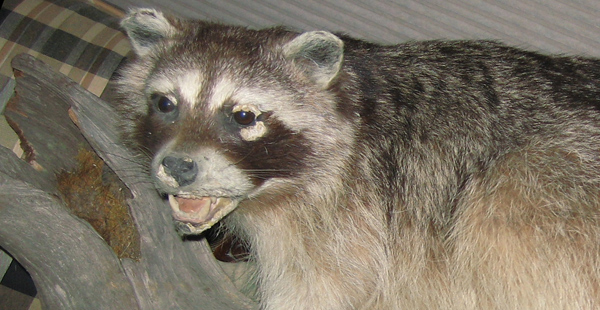raccoon: (121, 11, 587, 310)
